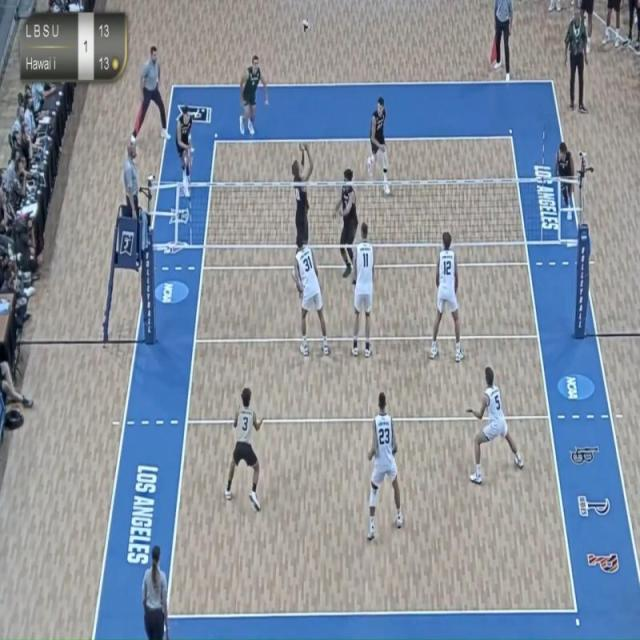volleyball: (297, 15, 313, 37)
